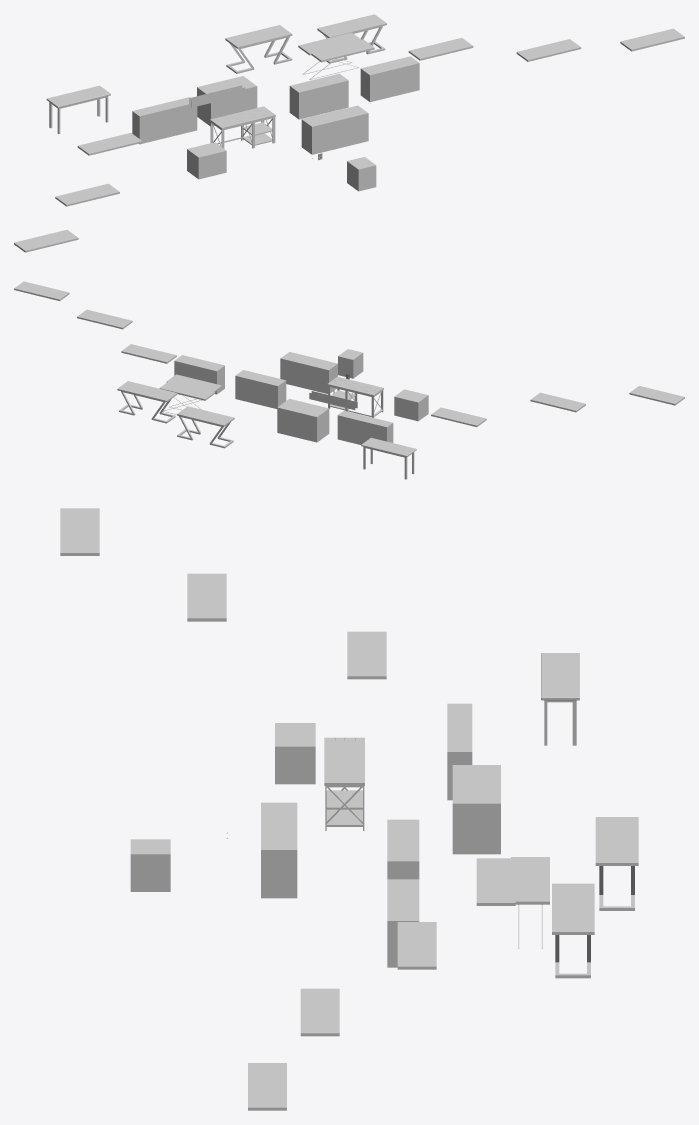
The model's file is mesa2.fbx.
The picture shows the model from 3 angles, top to bottom: view 1: azimuth 30°, elevation 25°; view 2: azimuth 150°, elevation 25°; view 3: azimuth 270°, elevation 25°; orthographic projection. The views are drawn at different scales.
Parts seen in each view (by area): view 1: kellékek étkezőasztalhoz, étkező többi variáció, kellékek, íróasztal fa, étkező asztallap_3, étkező láb_3, étkező asztallap, étkező asztallap_2, étkező láb; view 2: kellékek étkezőasztalhoz, étkező többi variáció, kellékek, étkező asztallap_3, íróasztal fa, étkező láb_3, étkező asztallap, étkező asztallap_2, étkező láb; view 3: étkező többi variáció, kellékek étkezőasztalhoz, kellékek, étkező asztallap_3, íróasztal fa, étkező asztallap, étkező asztallap_2, étkező láb_3.
Part boxes in pixels (x1,y1,x2,y2): kellékek étkezőasztalhoz: (132, 56, 419, 144); étkező többi variáció: (14, 28, 684, 252); kellékek: (187, 85, 376, 191); íróasztal fa: (210, 106, 275, 148); étkező asztallap_3: (225, 14, 386, 48); étkező láb_3: (226, 26, 385, 73); étkező asztallap: (46, 85, 110, 108); étkező asztallap_2: (298, 32, 362, 55); étkező láb: (49, 96, 108, 134); kellékek étkezőasztalhoz: (174, 355, 393, 444); étkező többi variáció: (14, 281, 684, 426); kellékek: (280, 349, 428, 421); étkező asztallap_3: (117, 381, 234, 426); íróasztal fa: (327, 376, 383, 417); étkező láb_3: (119, 391, 233, 448); étkező asztallap: (361, 437, 416, 457); étkező asztallap_2: (159, 382, 214, 400); étkező láb: (363, 446, 414, 479); étkező többi variáció: (60, 508, 515, 1110); kellékek étkezőasztalhoz: (387, 703, 500, 967); kellékek: (130, 723, 315, 898); étkező asztallap_3: (552, 817, 638, 934); íróasztal fa: (324, 737, 364, 830); étkező asztallap: (541, 653, 579, 700); étkező asztallap_2: (511, 857, 549, 904); étkező láb_3: (555, 866, 634, 978).
Bounding box in the file's own units: 2026 × 825 × 128.
3 materials, 2 textured.
